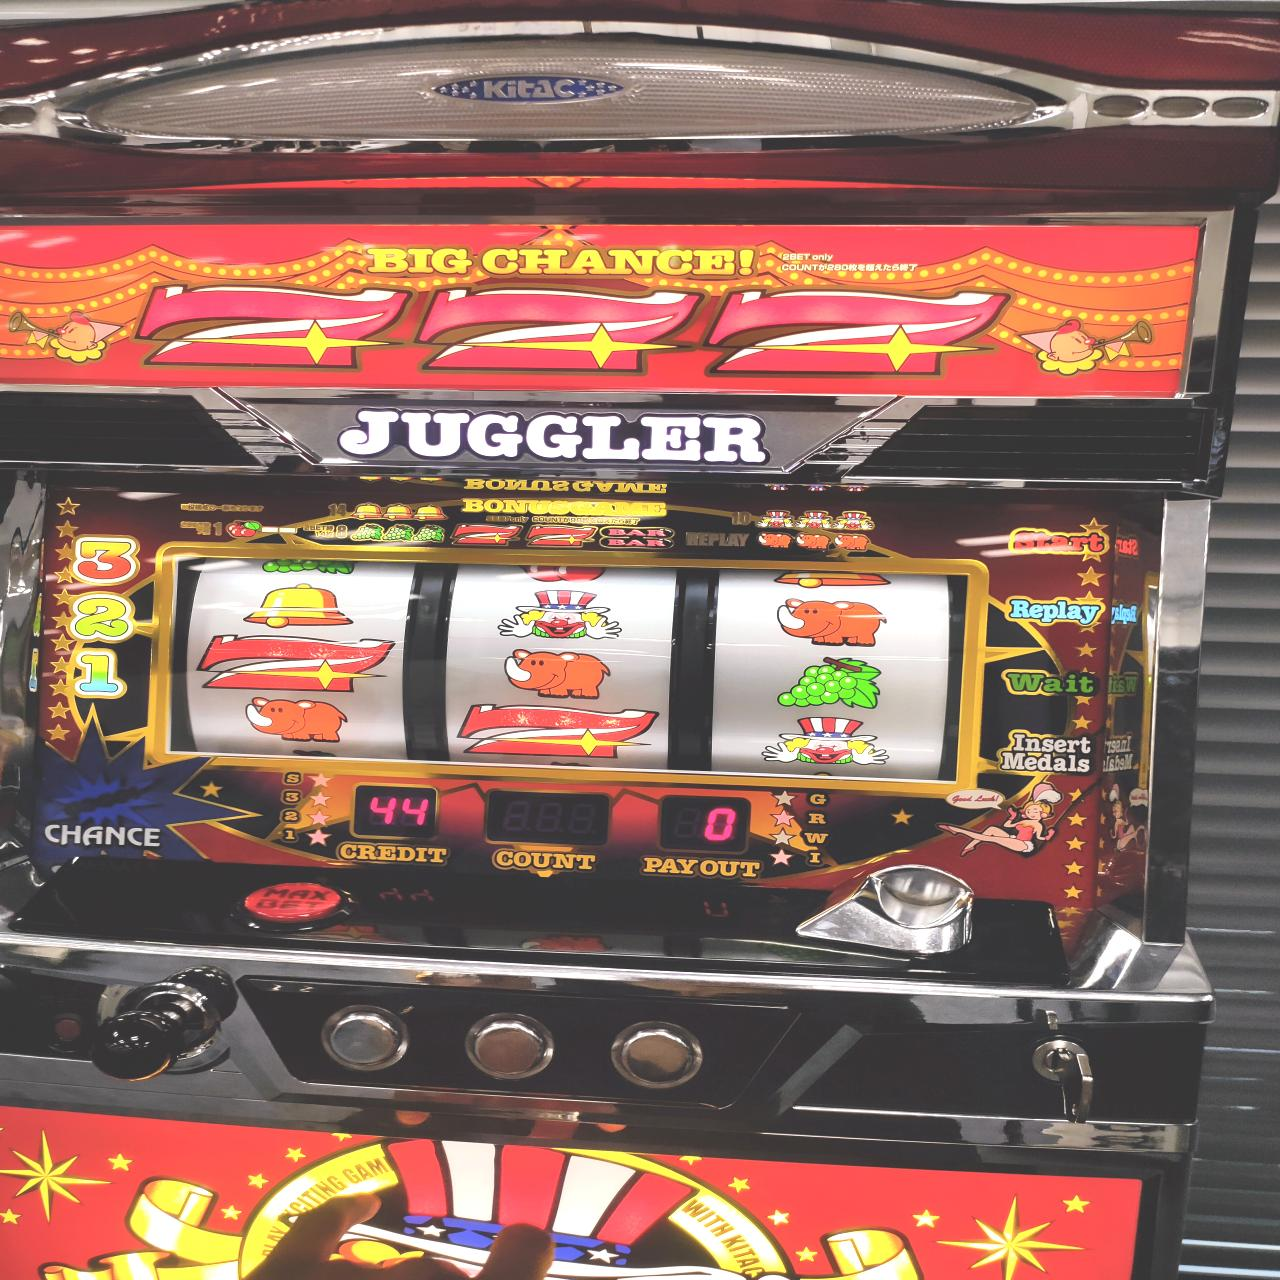7: (199, 631, 390, 693), (458, 703, 655, 762)
8: (776, 595, 892, 647), (498, 648, 614, 699), (244, 695, 352, 744)
Display: (169, 551, 969, 781)
bell: (245, 581, 358, 626)
clown: (498, 590, 620, 644), (764, 715, 883, 768)
grape: (778, 656, 887, 712)
